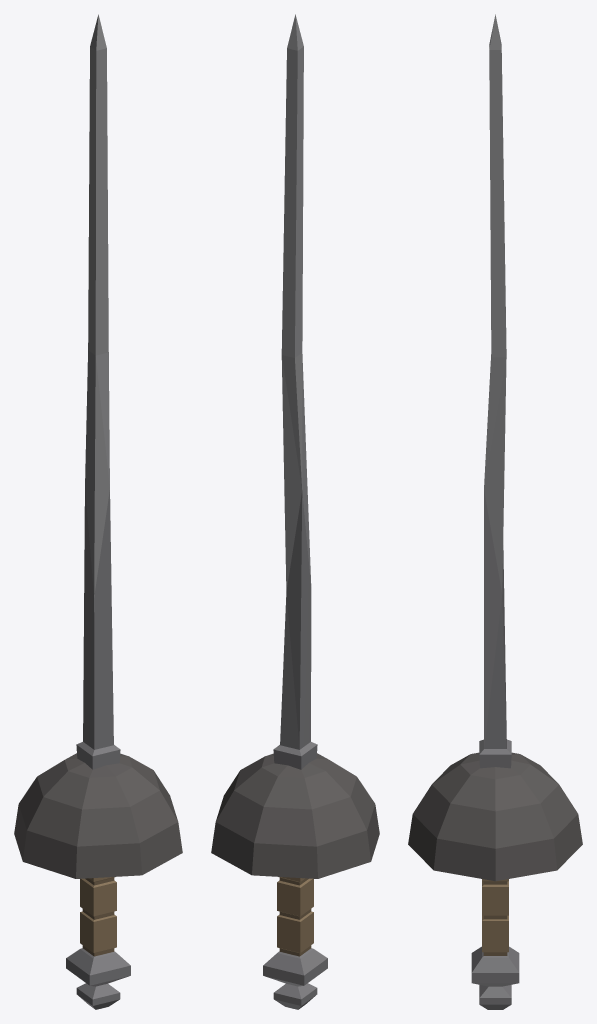
File: SM_Wep_Rapier_01.gltf
3 views of the same model, side by side, from view 1: azimuth 30°, elevation 25°; view 2: azimuth 150°, elevation 25°; view 3: azimuth 270°, elevation 25° (orthographic).
Parts seen in each view (by area): view 1: SM_Wep_Rapier_01; view 2: SM_Wep_Rapier_01; view 3: SM_Wep_Rapier_01.
Part boxes in pixels (left/top/right/bottom): SM_Wep_Rapier_01: left=14, top=14, right=182, bottom=1009; SM_Wep_Rapier_01: left=211, top=14, right=379, bottom=1009; SM_Wep_Rapier_01: left=408, top=14, right=582, bottom=1009.
Bounding box in the file's own units: 0.1924 × 1.21 × 0.1924.
1 material, 1 textured.
